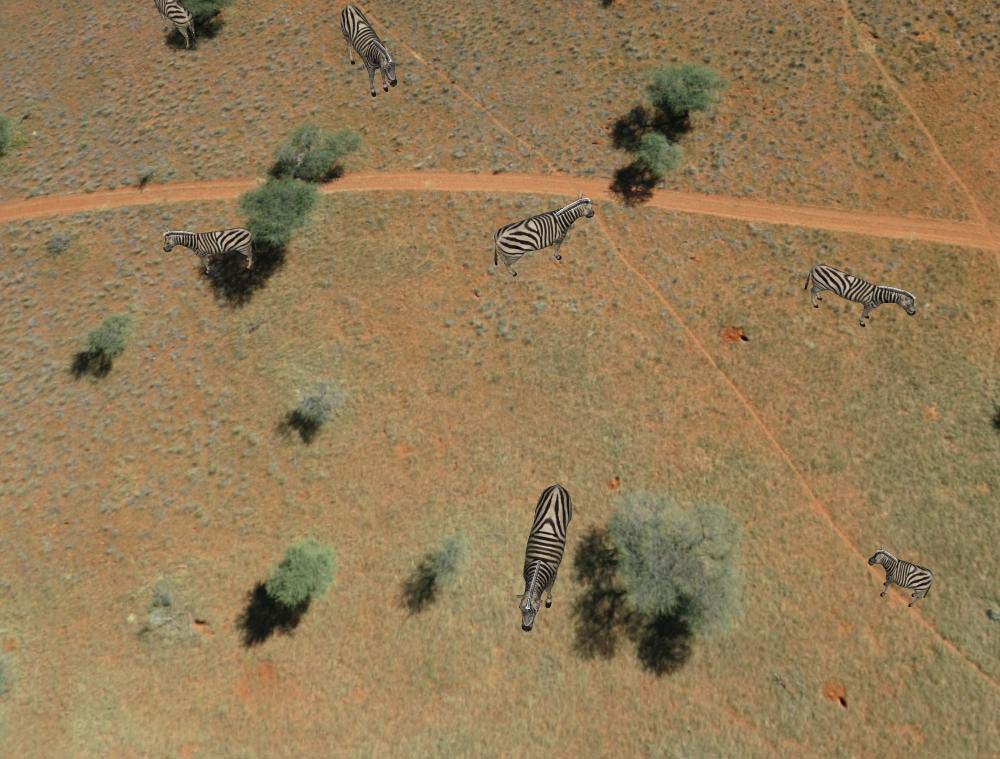zebra: (490, 189, 599, 277), (515, 477, 574, 631), (799, 261, 920, 332), (338, 2, 398, 94), (164, 224, 255, 277), (866, 543, 933, 608), (155, 1, 206, 54)
